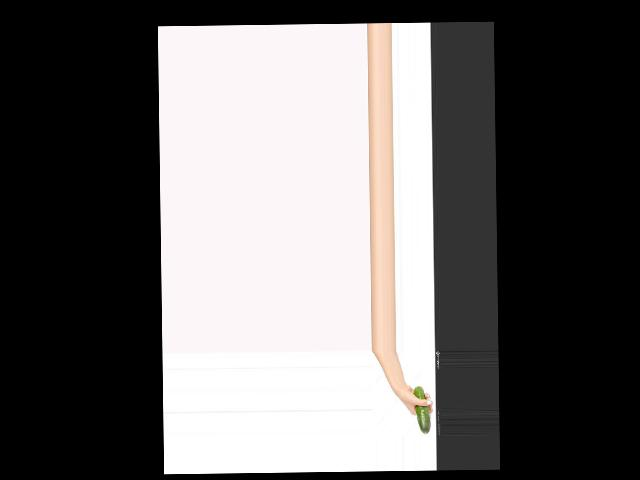cucumber: (414, 386, 431, 434)
